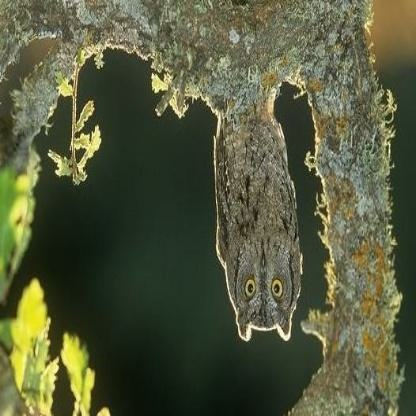Owl: (212, 100, 302, 338)
